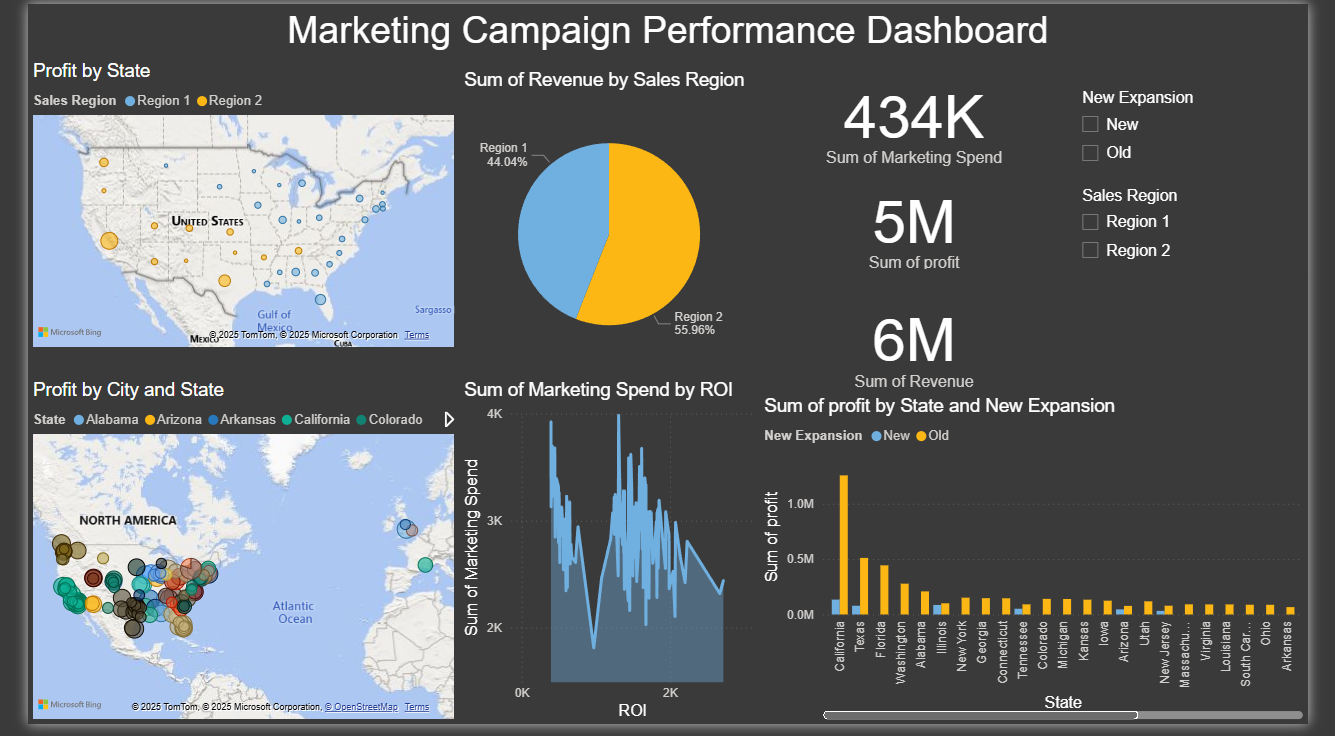

Layout of this report page (visuals, bound fields, positions):
{"tool":"powerbi","page":{"name":"Overview","canvas":[1280,720],"ordinal":0},"visuals":[{"type":"textbox","box":[0,0,1280.3,56.3],"z":0},{"type":"map","title":"Profit by State","fields":{"Category":["startup-expansion-modified.State"],"Size":["Sum(startup-expansion-modified.profit)"],"Series":["startup-expansion-modified.Sales Region"]},"box":[0,56.2,431.2,291.2],"z":1000},{"type":"map","title":"Profit by City and State","fields":{"Category":["startup-expansion-modified.City"],"Size":["Sum(startup-expansion-modified.profit)"],"Series":["startup-expansion-modified.State"]},"box":[0,375,431.2,345],"z":2000},{"type":"areaChart","fields":{"Category":["startup-expansion-modified.ROI"],"Y":["Sum(startup-expansion-modified.Marketing Spend)"]},"box":[431.2,375,300,345],"z":3000},{"type":"pieChart","fields":{"Category":["startup-expansion-modified.Sales Region"],"Y":["Sum(startup-expansion-modified.Revenue)"]},"box":[431.2,65,300,310],"z":4000},{"type":"card","fields":{"Values":["Sum(startup-expansion-modified.profit)"]},"box":[731.2,173.8,310,96.2],"z":5000},{"type":"card","fields":{"Values":["Sum(startup-expansion-modified.Marketing Spend)"]},"box":[731.2,56.2,310,121.2],"z":6000},{"type":"card","fields":{"Values":["Sum(startup-expansion-modified.Revenue)"]},"box":[731.2,288.8,310,102.5],"z":7000},{"type":"clusteredColumnChart","fields":{"Category":["startup-expansion-modified.State"],"Y":["Sum(startup-expansion-modified.profit)"],"Series":["startup-expansion-modified.New Expansion"]},"box":[731.2,391.2,548.8,328.8],"z":7001},{"type":"slicer","fields":{"Values":["startup-expansion-modified.Sales Region"]},"box":[1041.2,177.5,238.8,92.5],"z":7002},{"type":"slicer","fields":{"Values":["startup-expansion-modified.New Expansion"]},"box":[1041.2,80,238.8,93.8],"z":7003}]}

Visuals, with their boxes in screenshot pixels (x1, y1, x2, y2), scaled from the page's 1280x720 canvas onto the 1335x736 screenshot:
textbox: (0,0,1334,58)
"Profit by State" map: (0,57,450,355)
"Profit by City and State" map: (0,383,450,735)
areaChart - startup-expansion-modified.ROI x Sum(startup-expansion-modified.Marketing Spend): (450,383,763,735)
pieChart - startup-expansion-modified.Sales Region x Sum(startup-expansion-modified.Revenue): (450,66,763,383)
card - Sum(startup-expansion-modified.profit): (763,178,1086,276)
card - Sum(startup-expansion-modified.Marketing Spend): (763,57,1086,181)
card - Sum(startup-expansion-modified.Revenue): (763,295,1086,400)
clusteredColumnChart - startup-expansion-modified.State x Sum(startup-expansion-modified.profit): (763,400,1334,735)
slicer - startup-expansion-modified.Sales Region: (1086,181,1334,276)
slicer - startup-expansion-modified.New Expansion: (1086,82,1334,178)
